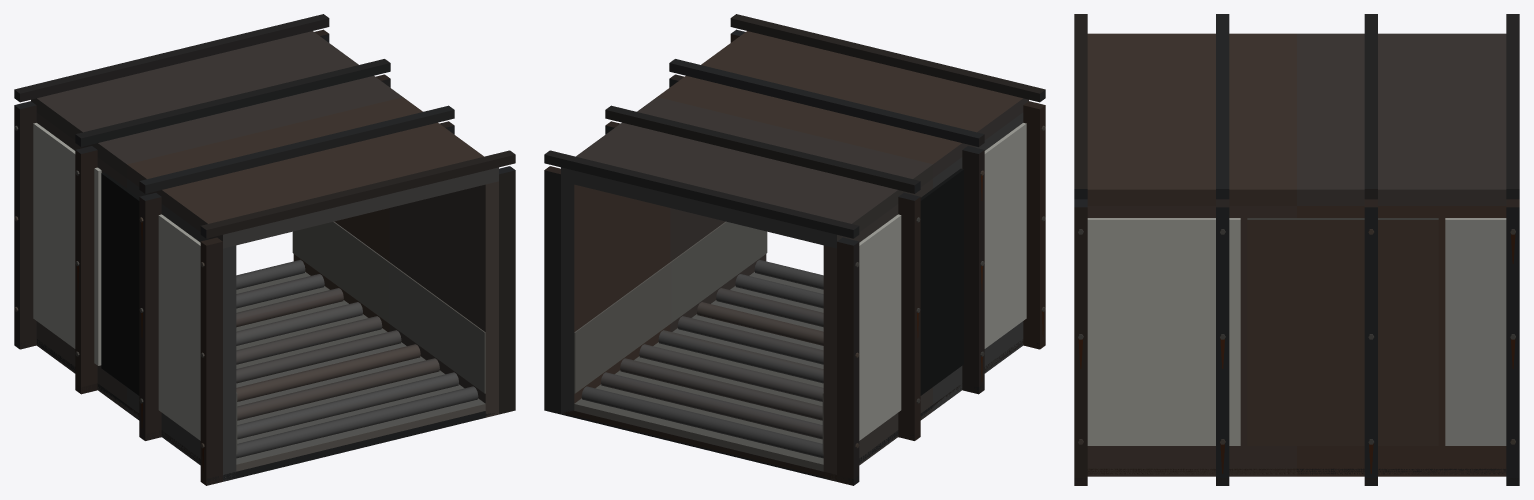
File: chute_h_straight.glb
3 views of the same model, side by side, from view 1: azimuth 30°, elevation 25°; view 2: azimuth 150°, elevation 25°; view 3: azimuth 270°, elevation 25° (orthographic). The views are drawn at different scales.
Visible parts, largest first — view 1: Frame; view 2: Frame; view 3: Frame.
Boxes of the visible parts, box(x1,y1,x2,y2) form: Frame: box(14, 14, 515, 485); Frame: box(544, 14, 1045, 485); Frame: box(1074, 14, 1519, 485).
Bounding box in the file's own units: 1.88 × 1.47 × 2.
